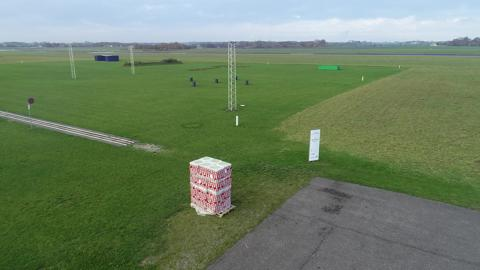RockwoolPallet: (188, 155, 233, 216)
